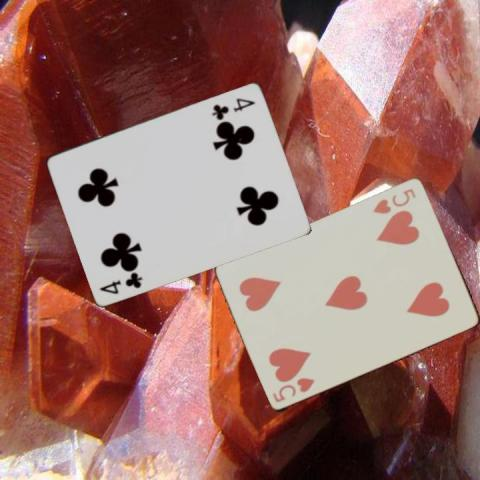4c: (97, 269, 144, 295), (208, 95, 256, 120)
5h: (370, 185, 417, 215), (269, 374, 317, 403)
